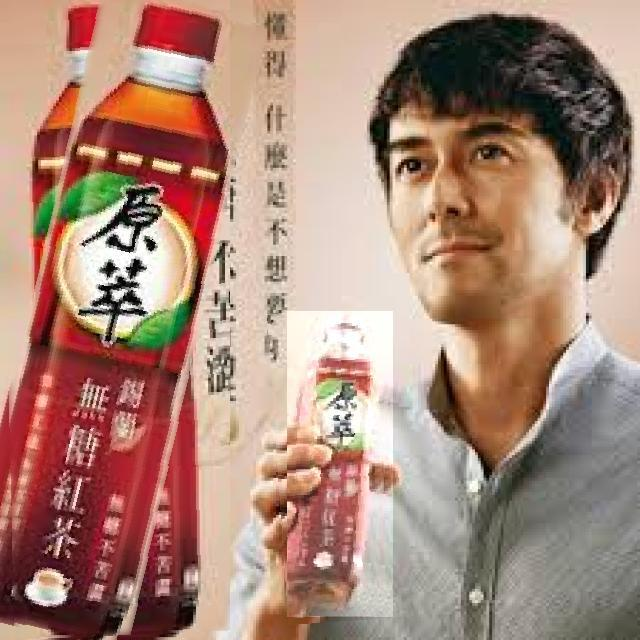YuanTsui_BlackTea: (0, 0, 230, 640), (287, 312, 393, 617)
